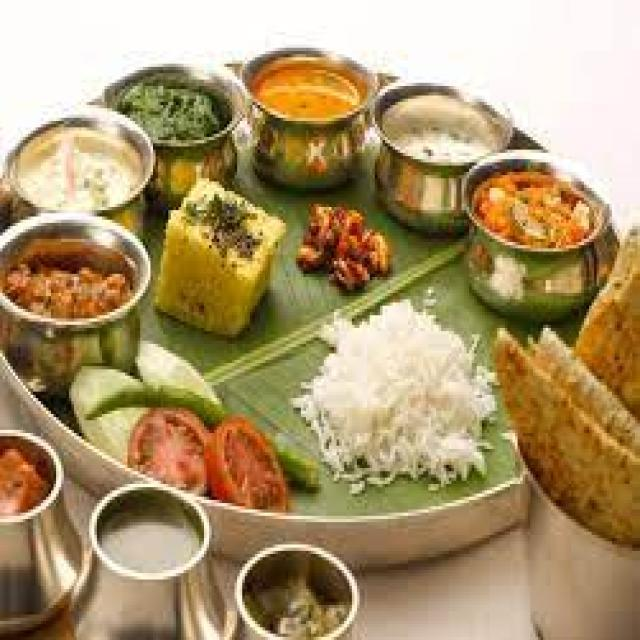dal: (250, 56, 367, 129)
pickle: (293, 198, 396, 292)
raita: (378, 89, 505, 171)
rice: (310, 293, 501, 486)
roti: (488, 238, 640, 550)
veg: (0, 219, 143, 328)
veg-fry: (462, 159, 608, 262)
